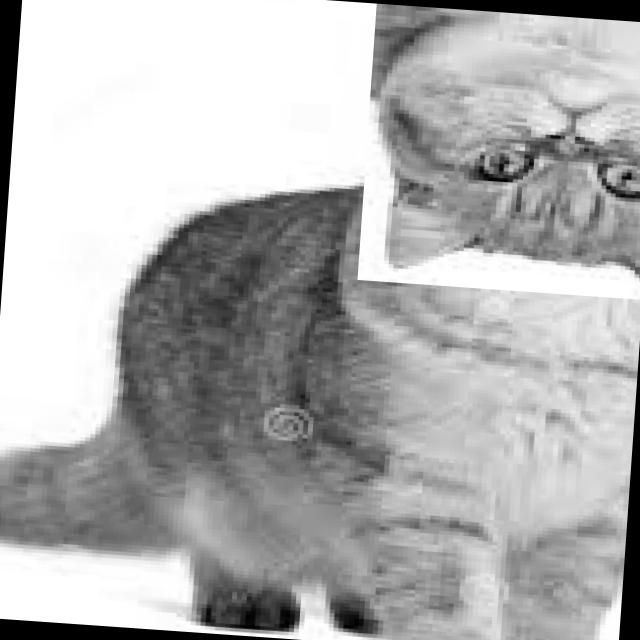british: (357, 3, 640, 299)
